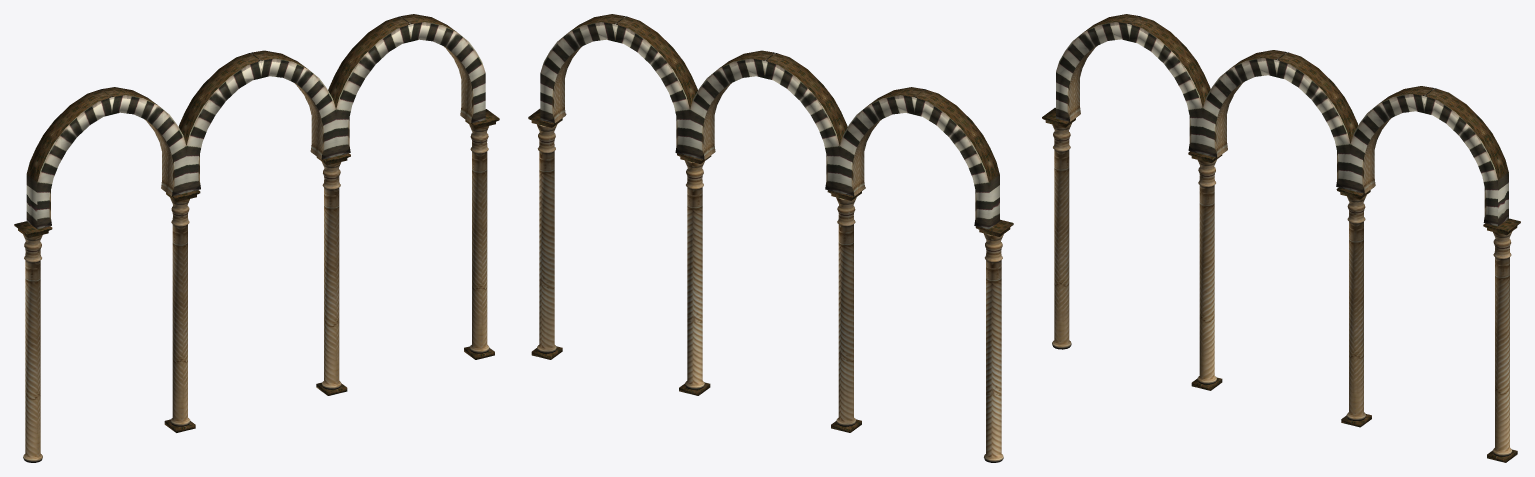
The model's file is building23.fbx.
3 views of the same model, side by side, from view 1: azimuth 30°, elevation 25°; view 2: azimuth 150°, elevation 25°; view 3: azimuth 330°, elevation 25° (orthographic).
Parts seen in each view (by area): view 1: Unassigned; view 2: Unassigned; view 3: Unassigned.
Boxes of the visible parts, x1,y1,x2,y2 form: Unassigned: (14,14,499,462); Unassigned: (528,14,1013,462); Unassigned: (1042,14,1520,462).
Bounding box in the file's own units: 488 × 347 × 23.44.
